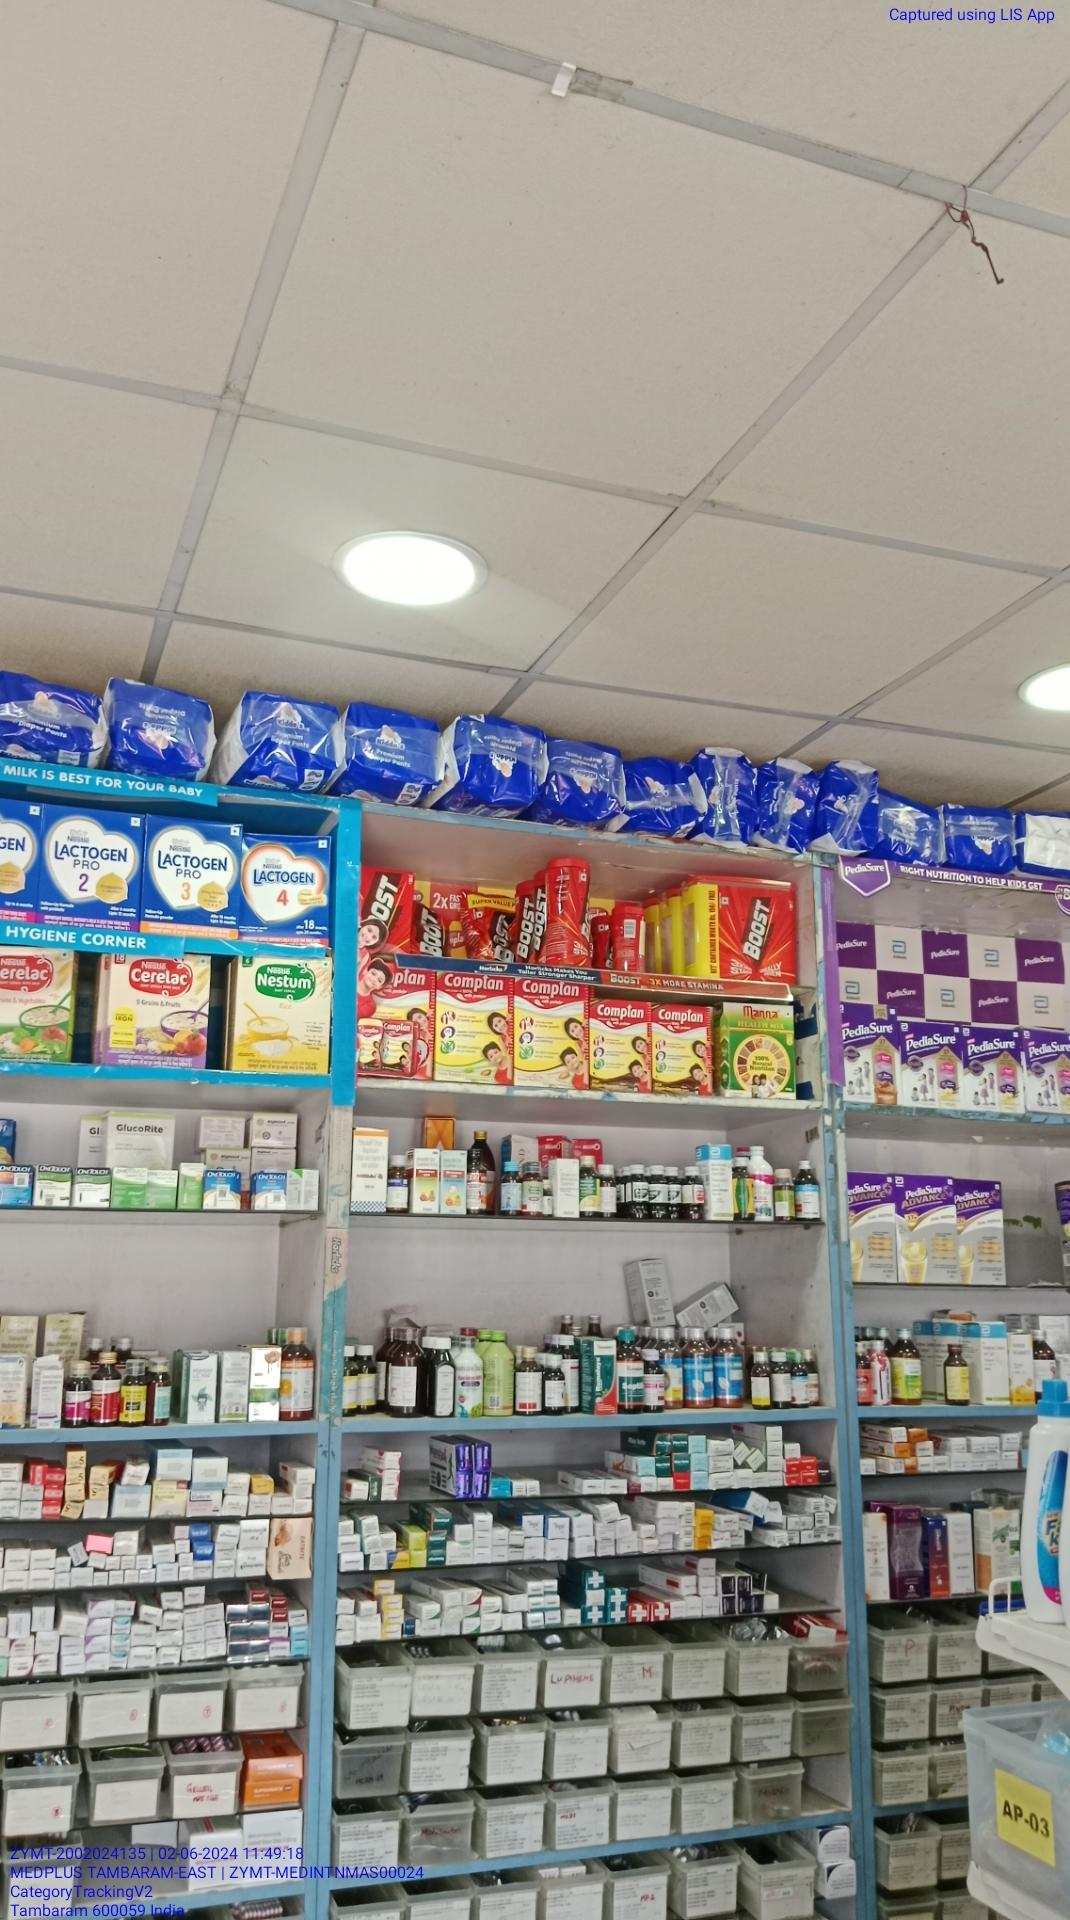PEDIASURE_CHOCOLATE_500_G_PACK: (839, 1002, 897, 1108)
PEDIASURE_VANILLA_500_G_PACK: (900, 1019, 961, 1112), (963, 1027, 1023, 1110), (1025, 1029, 1070, 1112)
